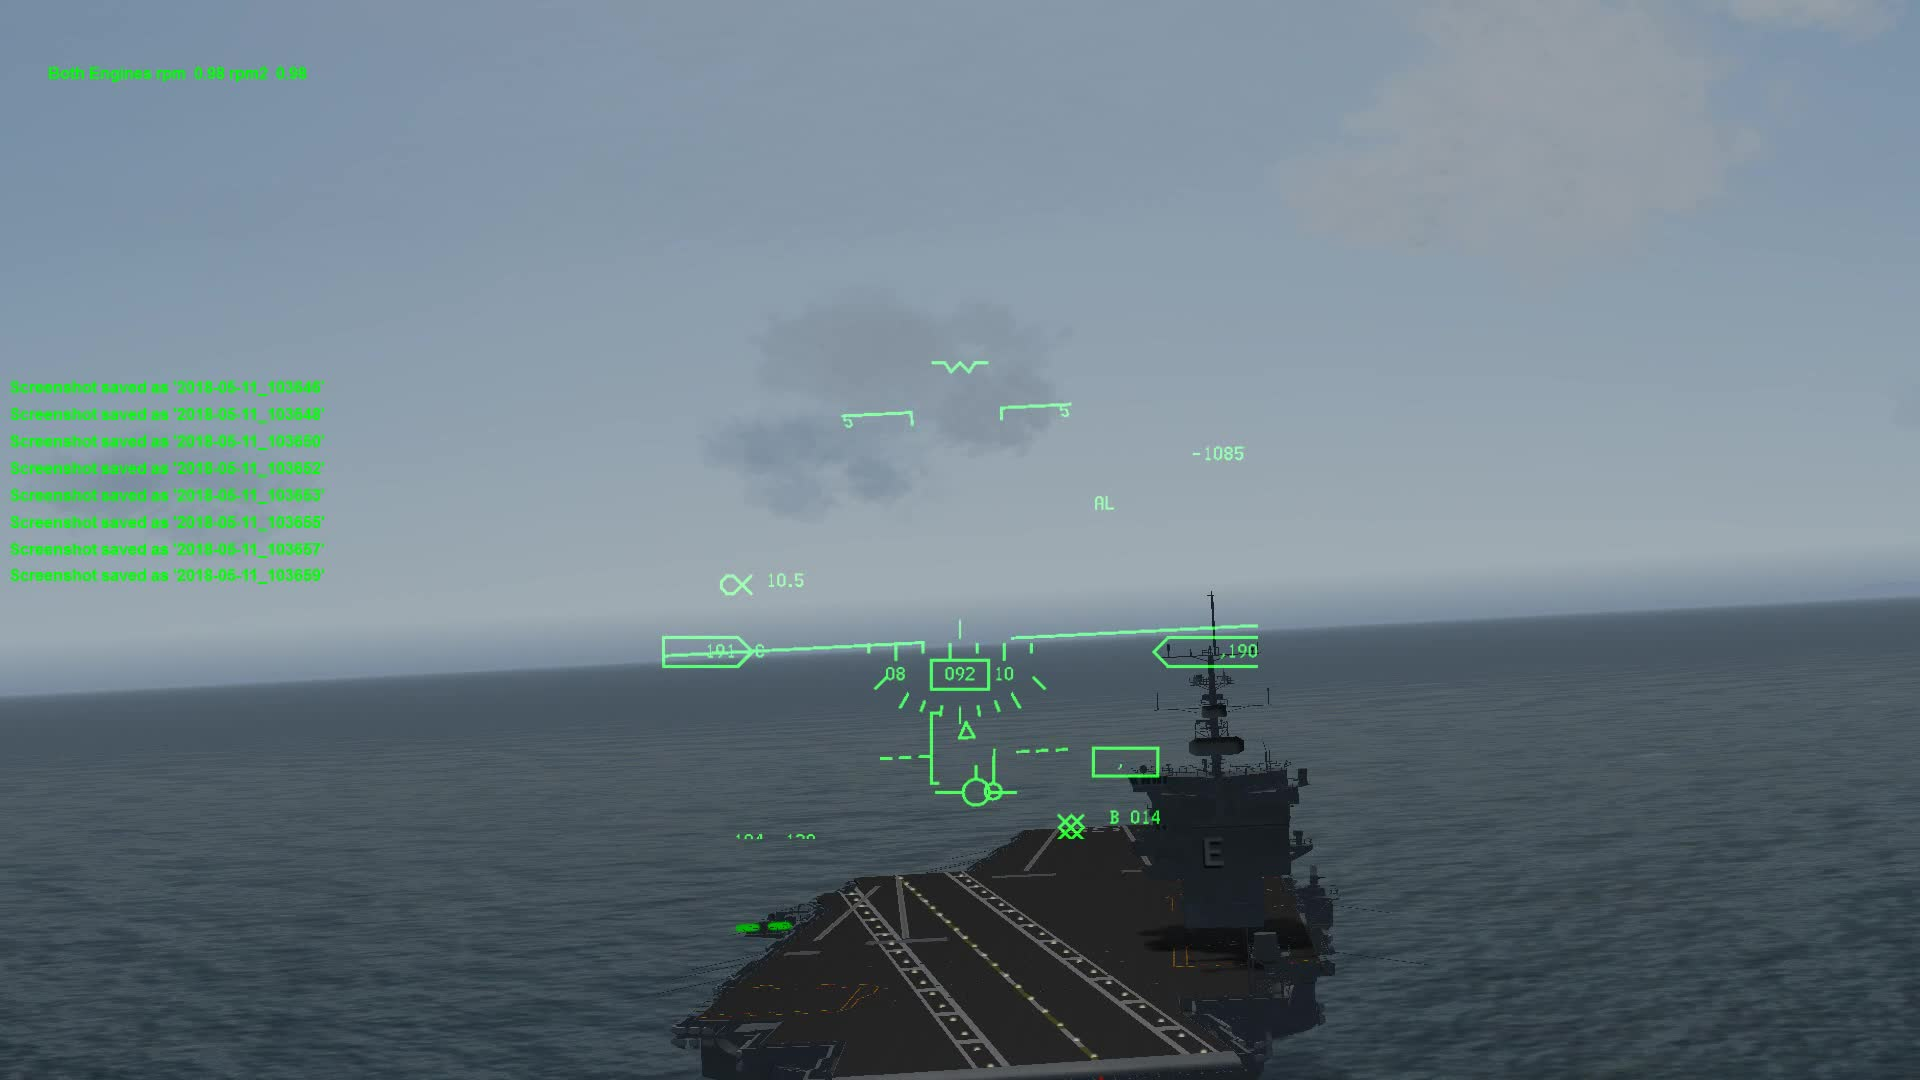speed_vector: (932, 764, 1018, 808)
